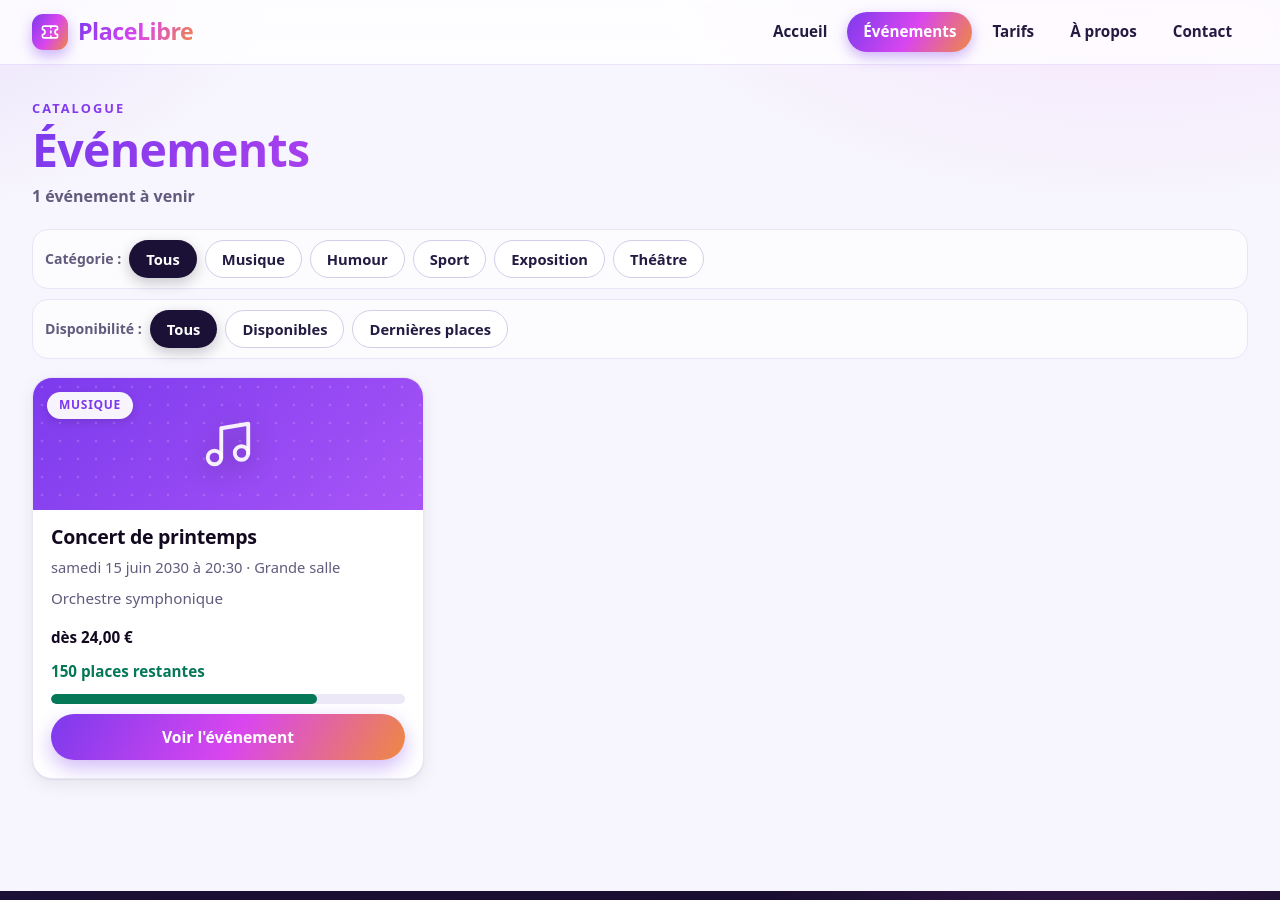
Test: page de détail (/evenements/:id) › s'ouvre en cliquant sur une carte et mène à la page de réservation
Click the link "Voir l'événement" at (228, 737), box [51,714,405,760]
(page scrolled)
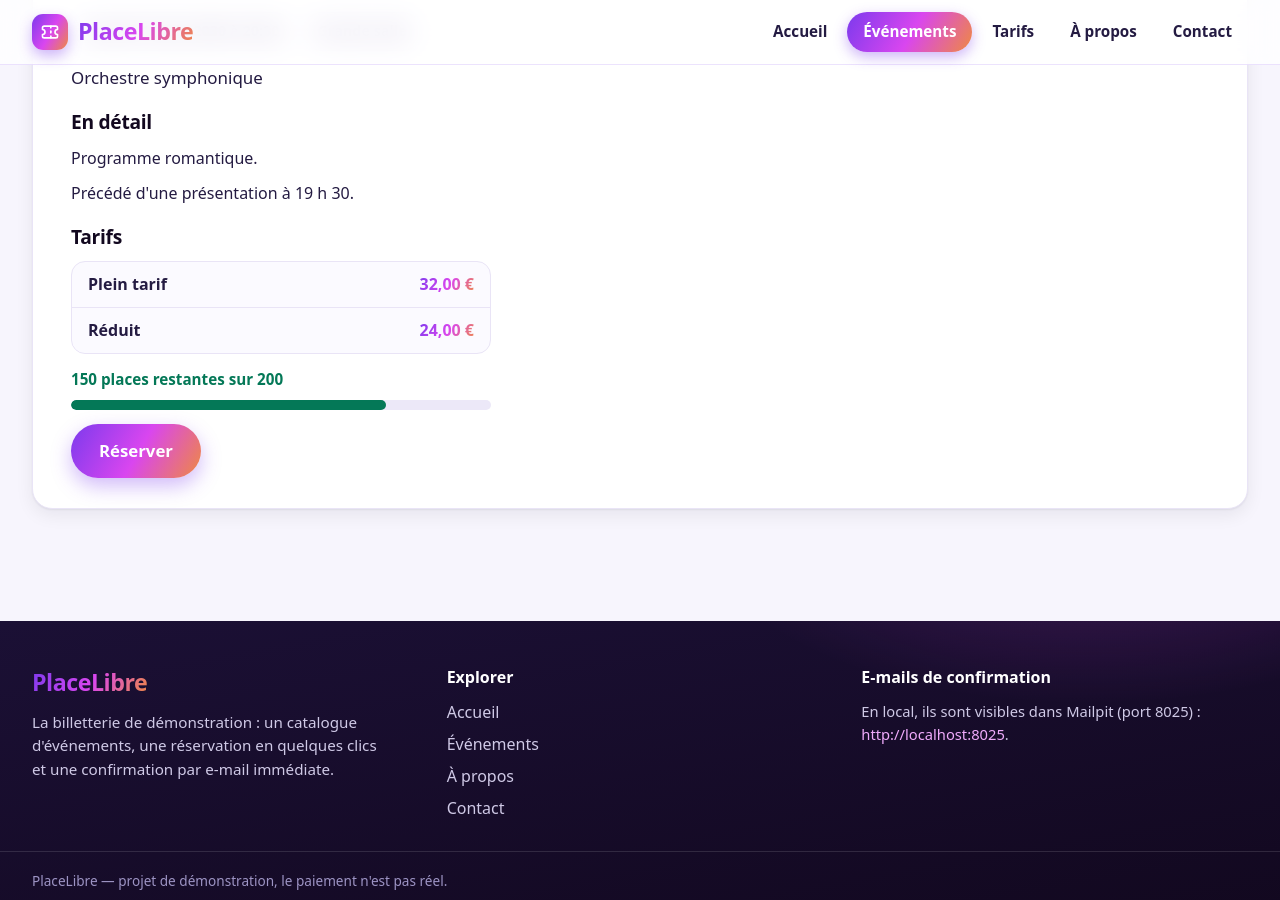
Now the heading "Tarifs" is shown, box [71,223,122,250]
Now the text "Plein tarif" is shown, box [88,272,167,297]
Now the text "32,00 €" is shown, box [420,272,474,297]
Click the link "Réserver" at (136, 451), box [71,424,201,478]
(page scrolled)
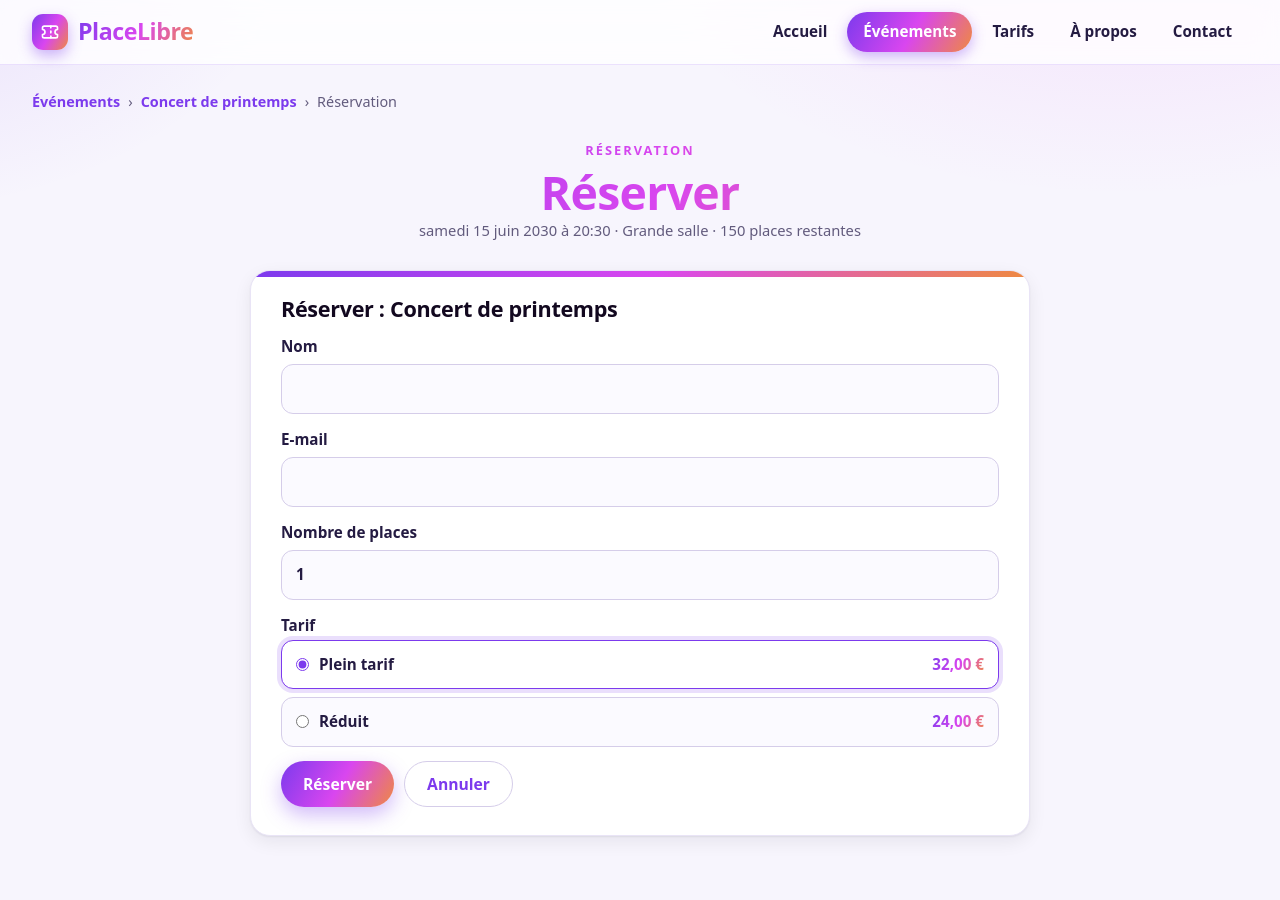
Now the form named "Réserver Concert de printemps" is shown, box [250,270,1030,836]
